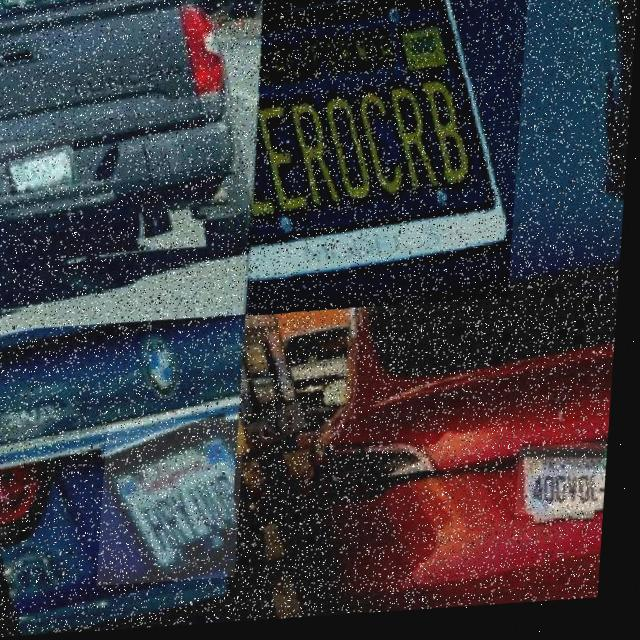LicensePlate: (248, 0, 530, 319), (105, 420, 251, 588), (527, 455, 613, 521), (0, 141, 75, 192)
